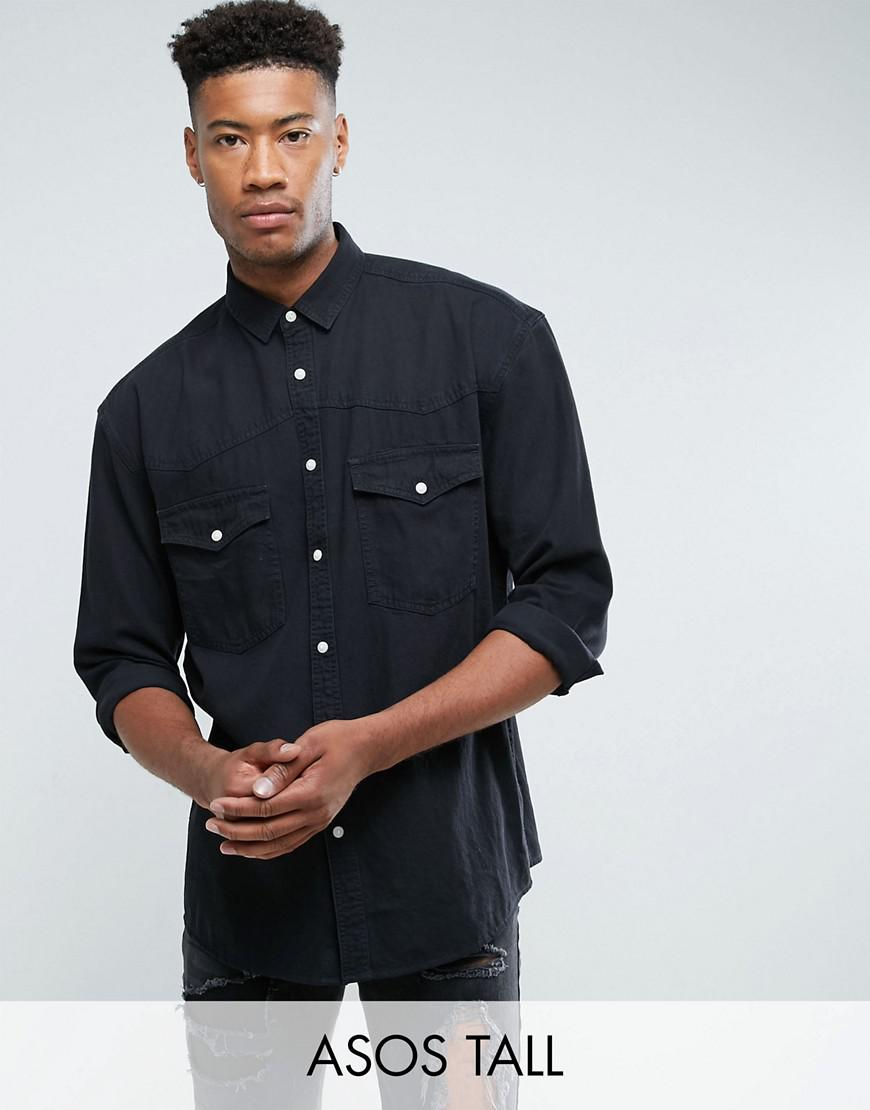teeshirt: (46, 246, 640, 942)
